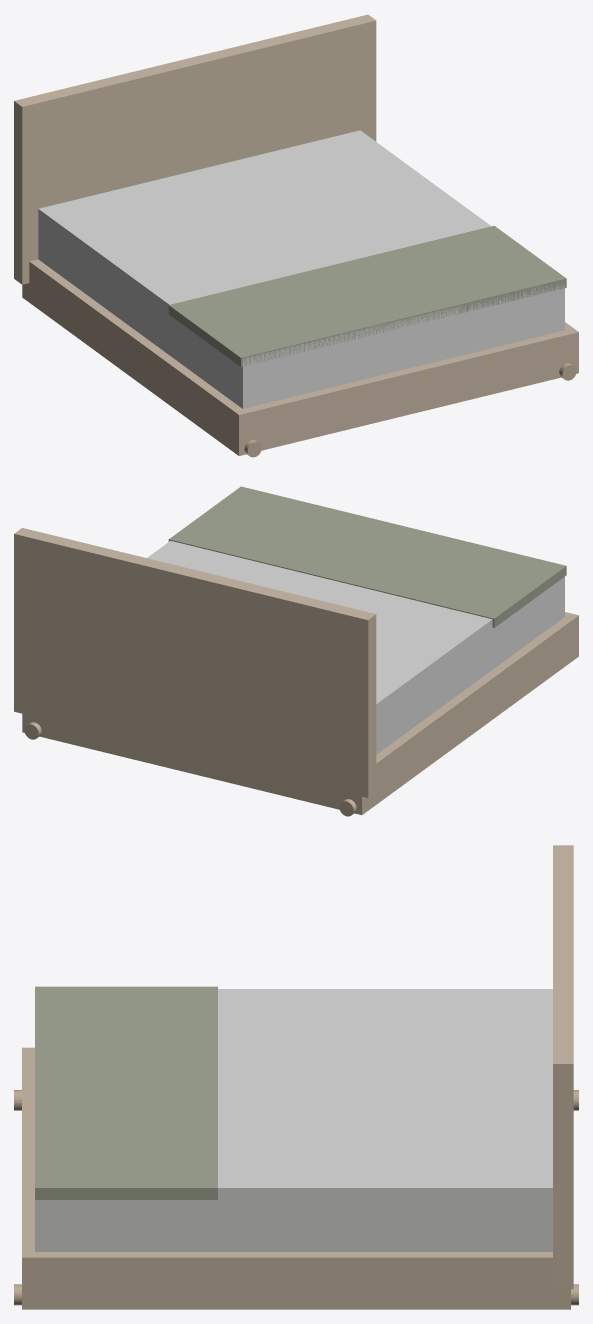
File: bed_scandinavian_oak.glb
3 renders of one model, top to bottom at view 1: azimuth 30°, elevation 25°; view 2: azimuth 150°, elevation 25°; view 3: azimuth 270°, elevation 25°, orthographic. The views are drawn at different scales.
Parts seen in each view (by area): view 1: geometry_2, geometry_1, geometry_3, geometry_0; view 2: geometry_1, geometry_3, geometry_2, geometry_0; view 3: geometry_2, geometry_3, geometry_0, geometry_1.
Boxes of the visible parts, x1,y1,x2,y2 form: geometry_2: [38, 130, 564, 408]; geometry_1: [14, 14, 376, 284]; geometry_3: [168, 225, 566, 367]; geometry_0: [22, 259, 578, 455]; geometry_1: [14, 528, 376, 797]; geometry_3: [168, 486, 566, 627]; geometry_2: [147, 540, 564, 754]; geometry_0: [22, 612, 578, 814]; geometry_2: [35, 989, 552, 1251]; geometry_3: [35, 986, 217, 1199]; geometry_0: [22, 1047, 570, 1309]; geometry_1: [553, 845, 573, 1289].
Bounding box in the file's own units: 1.98 × 1.07 × 2.16.
